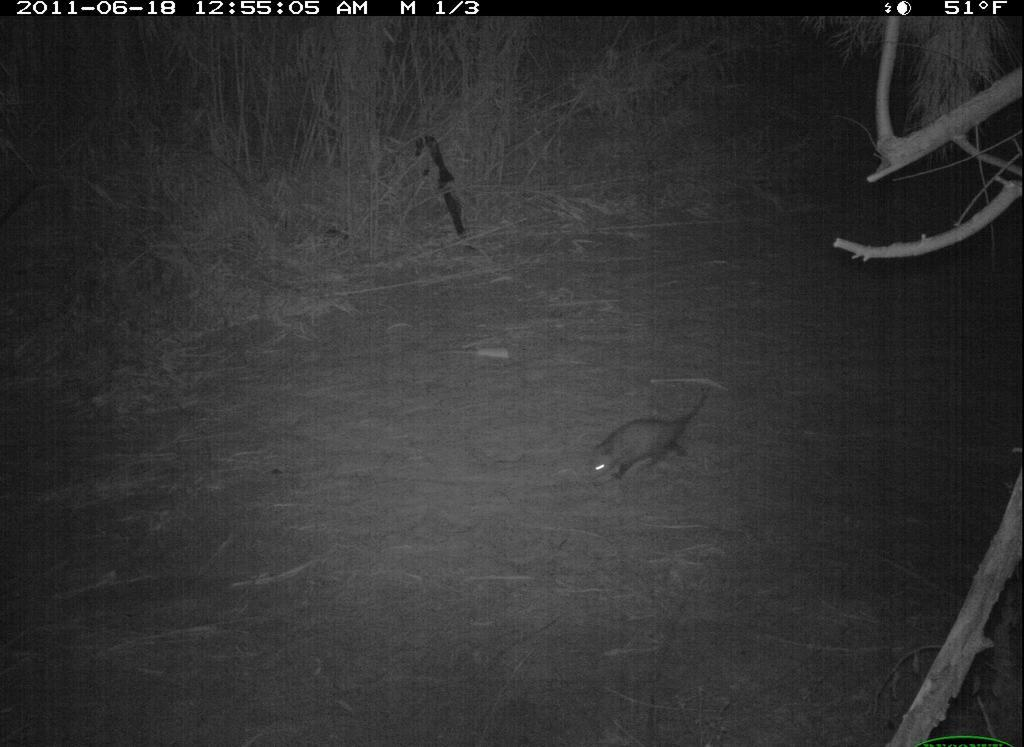opossum: (578, 379, 722, 491)
